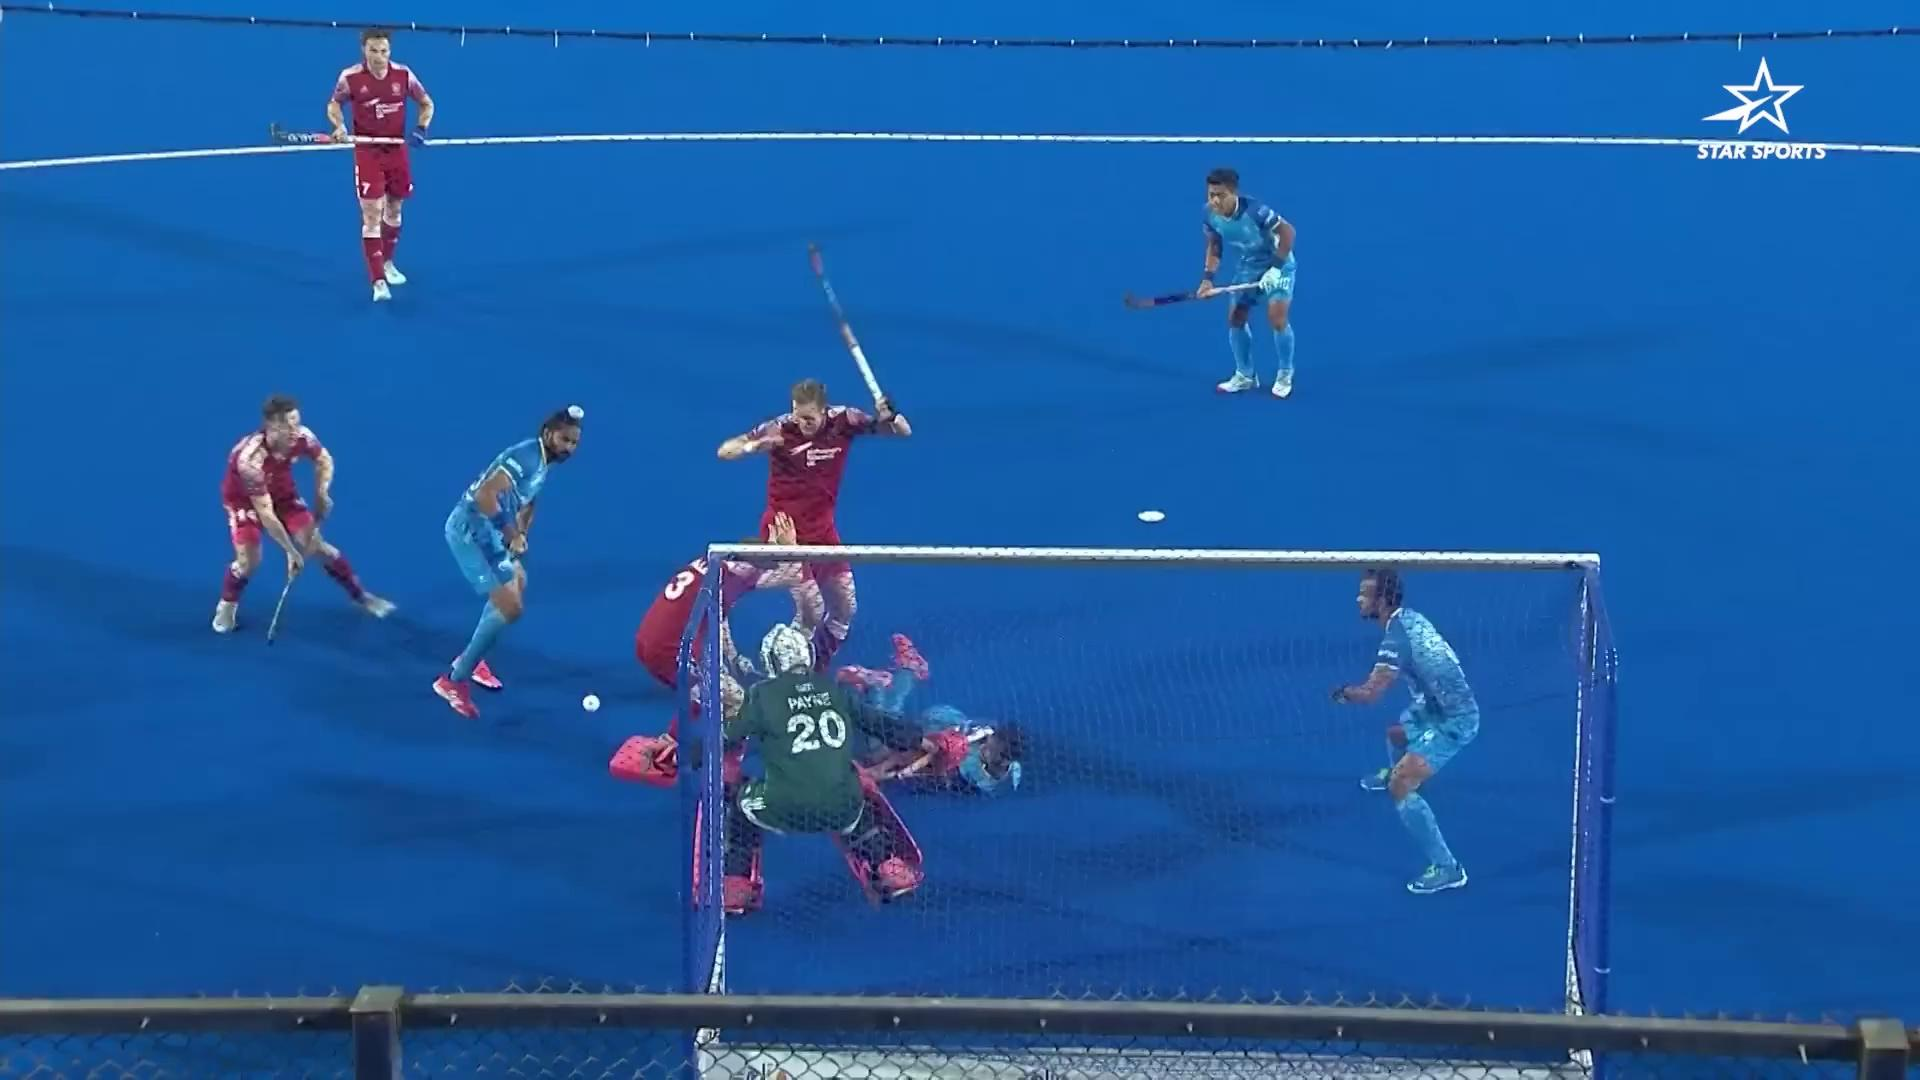ball: (566, 674, 621, 727)
